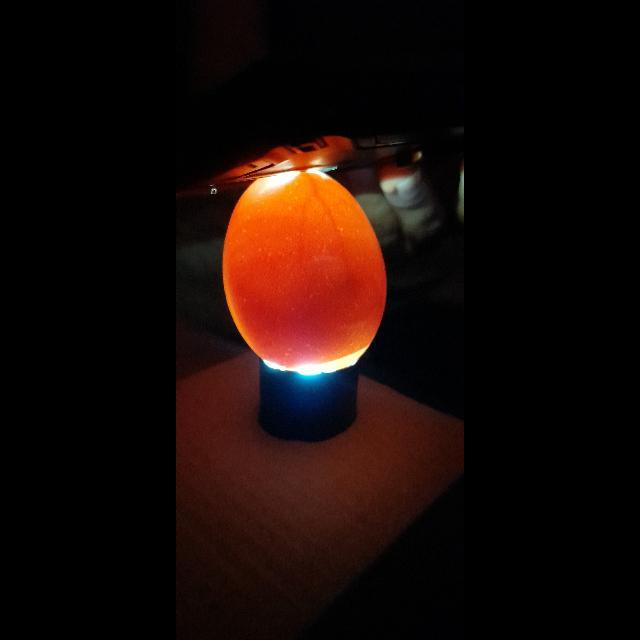Fertile: (222, 171, 386, 371)
